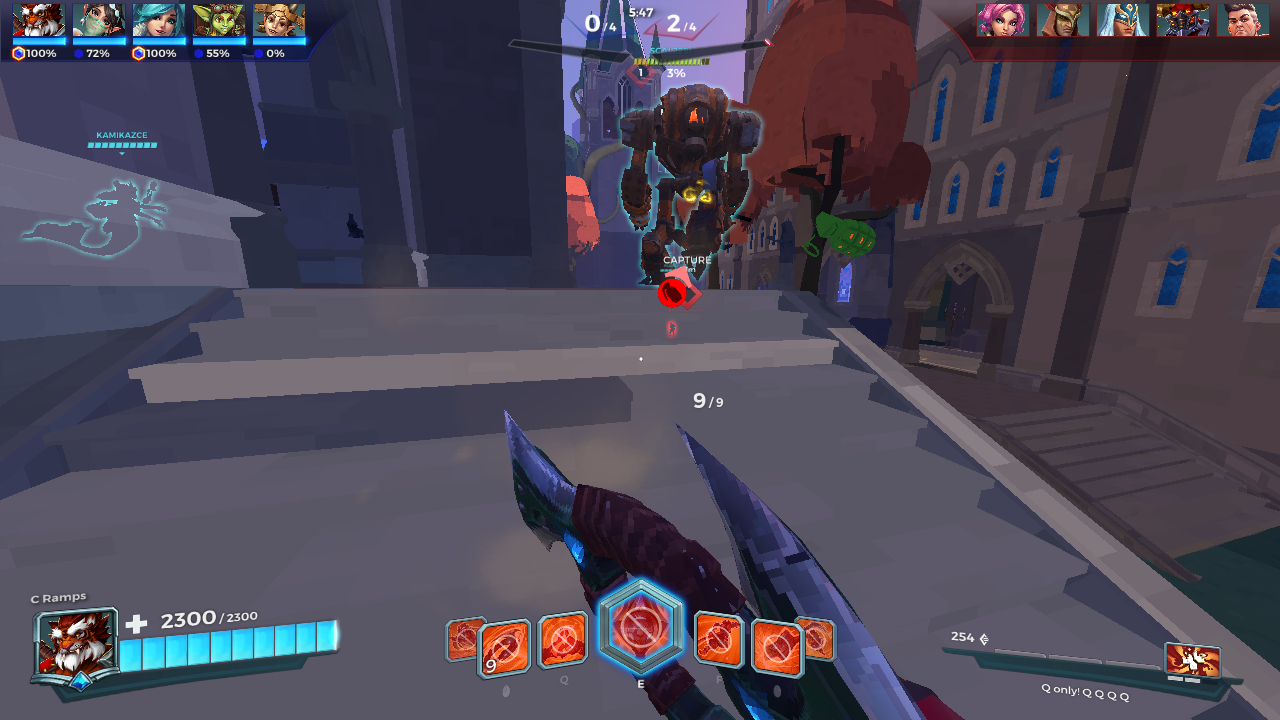model: (665, 316, 680, 336)
